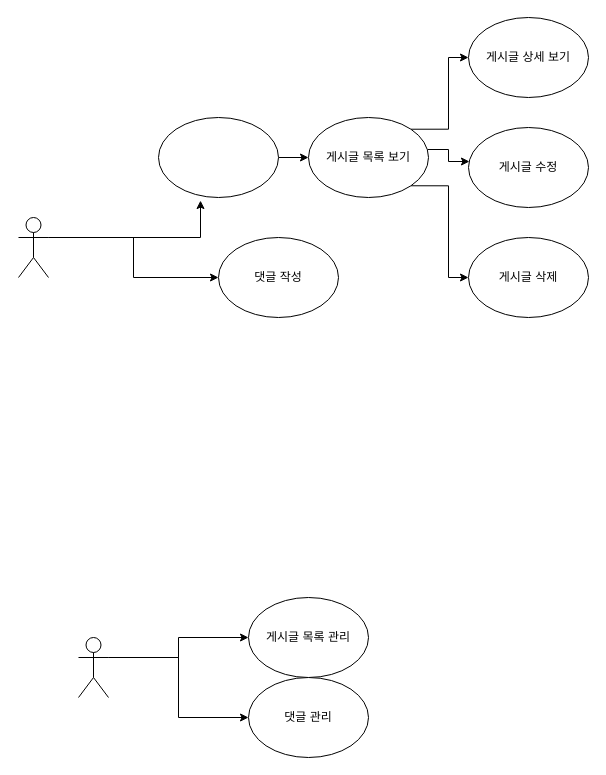
The diagram is 606 pixels wide and 775 high, and some of its shapes have lost their labels. The centre of each missing label's shape, as x and y in pixels:
"게시글 작성" belongs at pixel 218 157.
"관리자" belongs at pixel 93 667.
"사용자" belongs at pixel 33 247.
